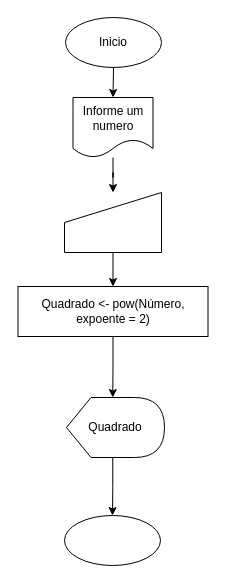
Some shapes in this 225 by 583 pixel diagram are drawn without their labels. The shapes that lost their labels are listed below. From the top down, each one's centre as x and y in pixels, then its label:
At (x=113, y=222): "Número".
At (x=112, y=540): "Fim".
